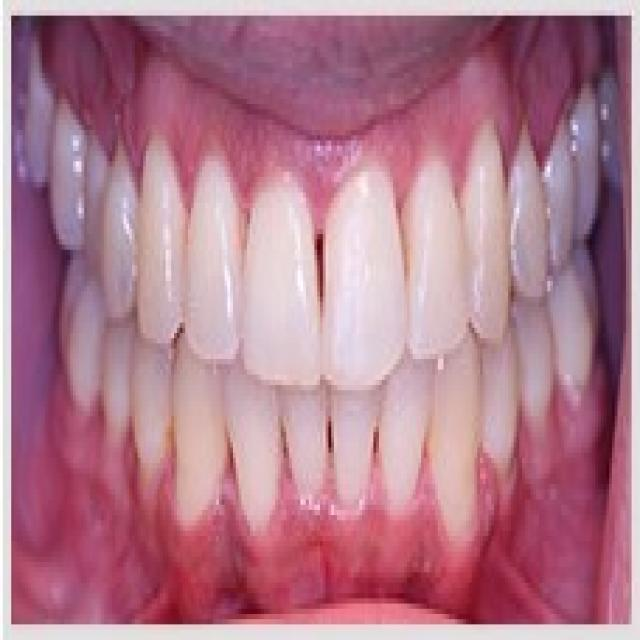tooth: (323, 156, 404, 401), (250, 172, 326, 385), (186, 146, 256, 364), (407, 156, 472, 370), (224, 374, 286, 552), (172, 364, 228, 531), (438, 359, 486, 541), (469, 140, 511, 328), (101, 151, 149, 312), (146, 151, 185, 349), (382, 390, 426, 510), (514, 136, 547, 292), (59, 260, 101, 375), (53, 99, 87, 234), (572, 88, 604, 229), (519, 302, 556, 416), (556, 276, 592, 390), (138, 354, 171, 473), (486, 343, 519, 453), (550, 130, 576, 265), (107, 333, 143, 427), (334, 406, 365, 499), (292, 390, 312, 484)
